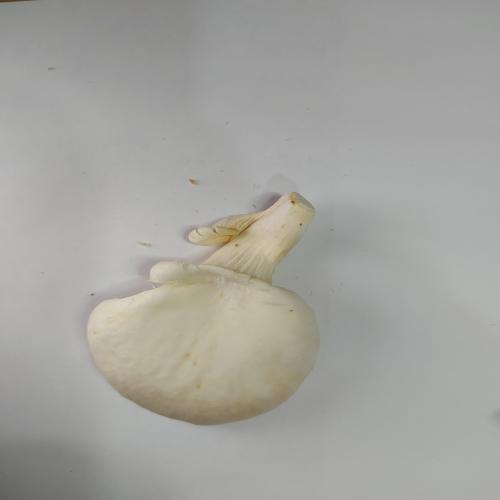Oyster Mushroom: (85, 190, 321, 426)
